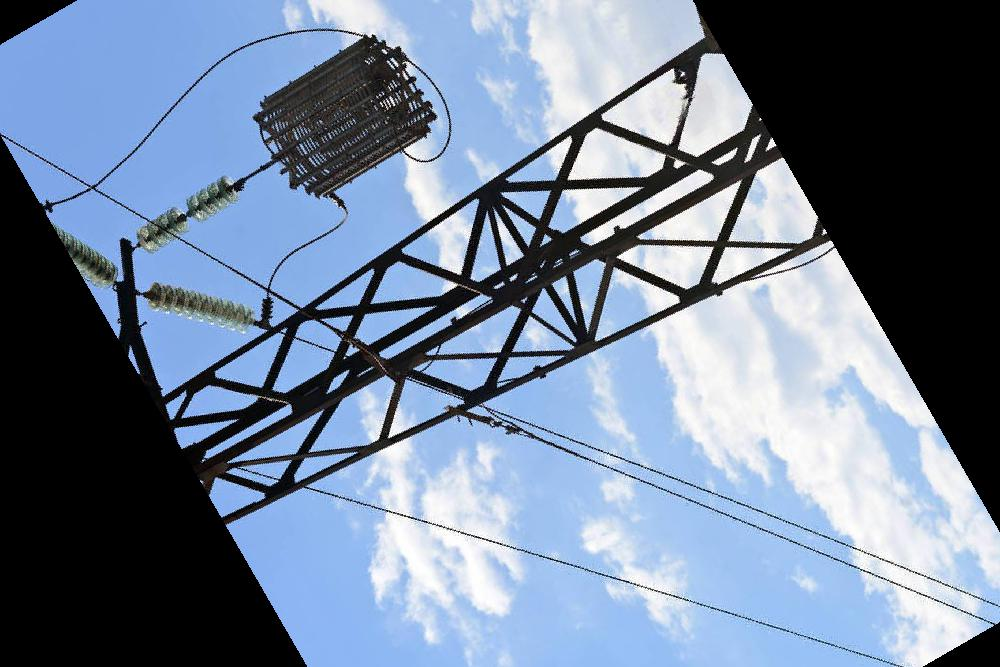insulator: (133, 172, 238, 256), (144, 279, 259, 337), (46, 222, 121, 291)
insulator_stringdrop: (165, 192, 206, 235)
